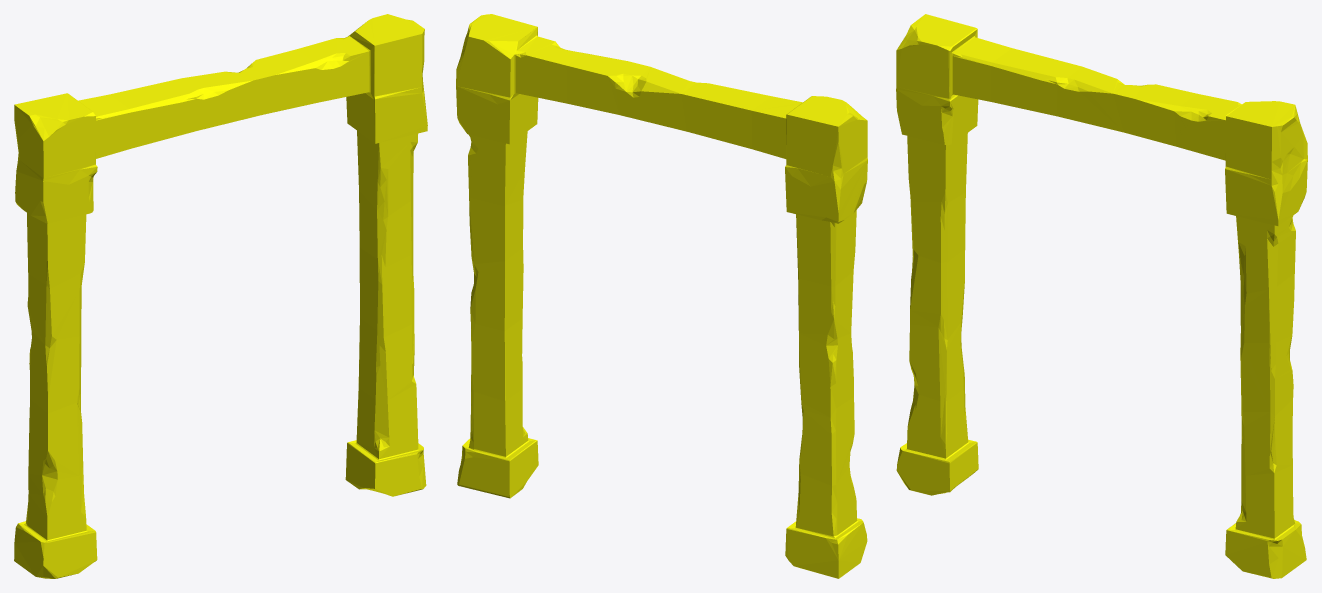
The model's file is Portal_06.glb.
3 renders of one model, left to right at view 1: azimuth 30°, elevation 25°; view 2: azimuth 150°, elevation 25°; view 3: azimuth 330°, elevation 25°, orthographic.
Parts seen in each view (by area): view 1: Portal_06; view 2: Portal_06; view 3: Portal_06.
Boxes of the visible parts, left/top/right/bottom form: Portal_06: left=14, top=14, right=427, bottom=578; Portal_06: left=456, top=14, right=867, bottom=578; Portal_06: left=896, top=14, right=1307, bottom=578.
Size of the model in its own units: 6.46 by 7.31 by 0.8514.
1 material, 1 textured.
